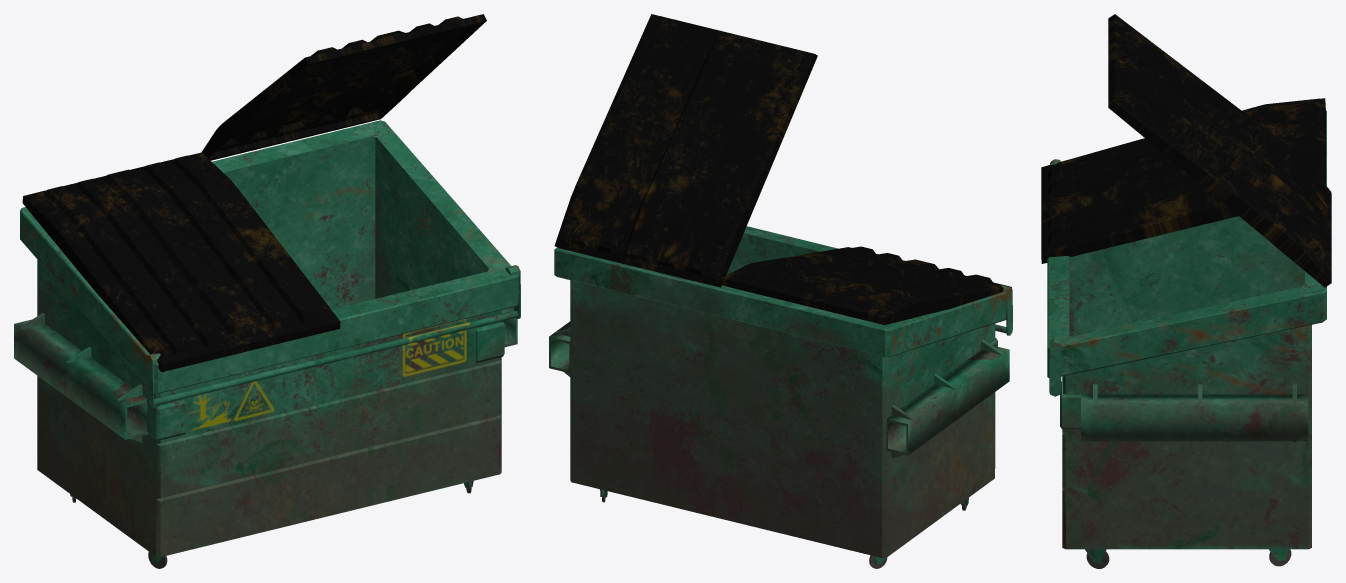
File: benne.glb
3 renders of one model, left to right at view 1: azimuth 30°, elevation 25°; view 2: azimuth 150°, elevation 25°; view 3: azimuth 270°, elevation 25°, orthographic. The views are drawn at different scales.
Parts seen in each view (by area): view 1: Box013, Plane021, Plane022; view 2: Box013, Plane022, Plane021; view 3: Box013, Plane022, Plane021.
Part boxes in pixels (x1,y1,x2,y2): Box013: (14, 120, 520, 568); Plane021: (22, 152, 340, 372); Plane022: (201, 14, 486, 160); Box013: (549, 226, 1012, 568); Plane022: (554, 14, 817, 287); Plane021: (721, 246, 1011, 324); Box013: (1047, 111, 1326, 568); Plane022: (1108, 14, 1331, 287); Plane021: (1041, 98, 1325, 263).
Bounding box in the file's own units: 1.76 × 2 × 1.1.
Materials: 2 (2 with a texture image).
